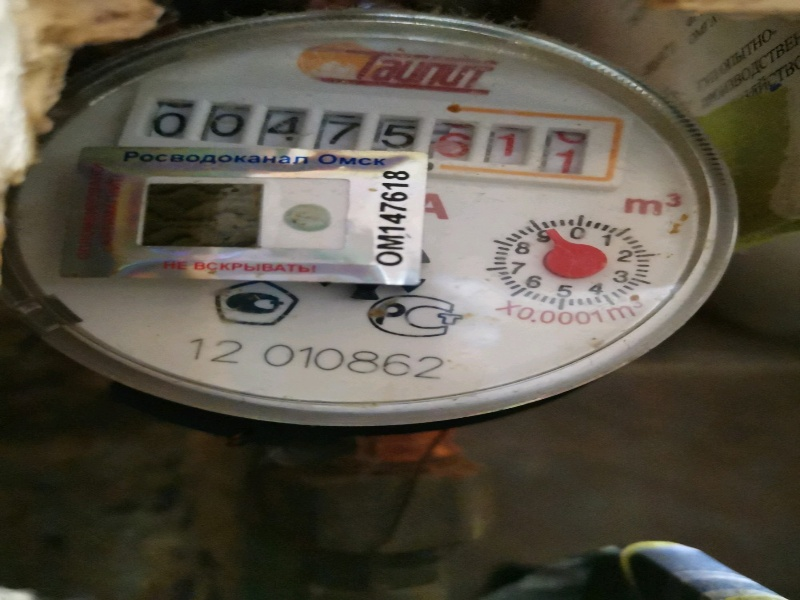meter: (139, 89, 627, 174)
